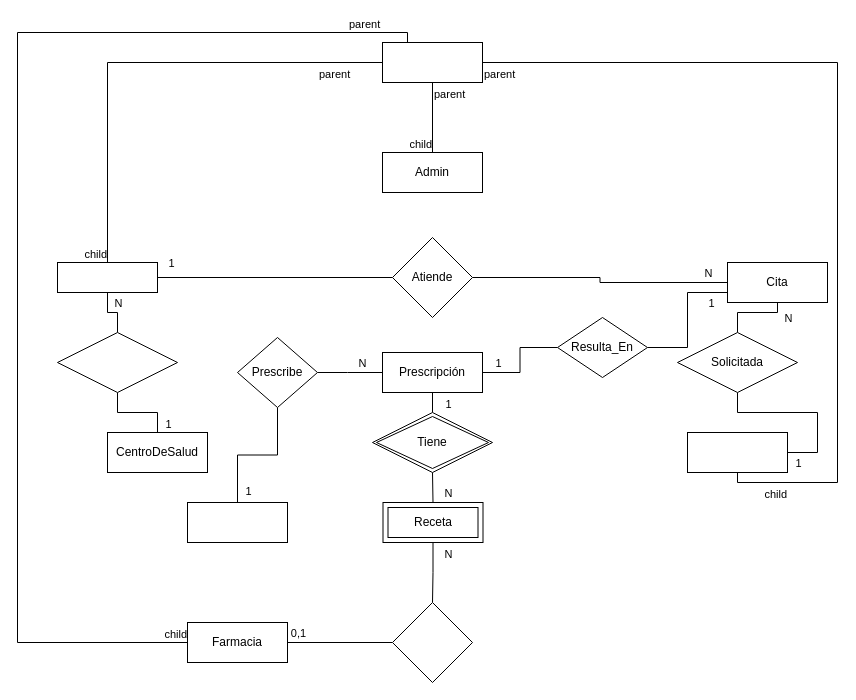
This 856x700 diagram has some shape labels left out. The shapes that lost their labels are listed below. From the top down, each one's centre as x and y in pixels, then its label:
At point (432, 62): "Usuario".
At point (107, 277): "Medico".
At point (117, 362): "Están".
At point (737, 452): "Paciente".
At point (237, 522): "Medicamento".
At point (432, 642): "Sirve".
